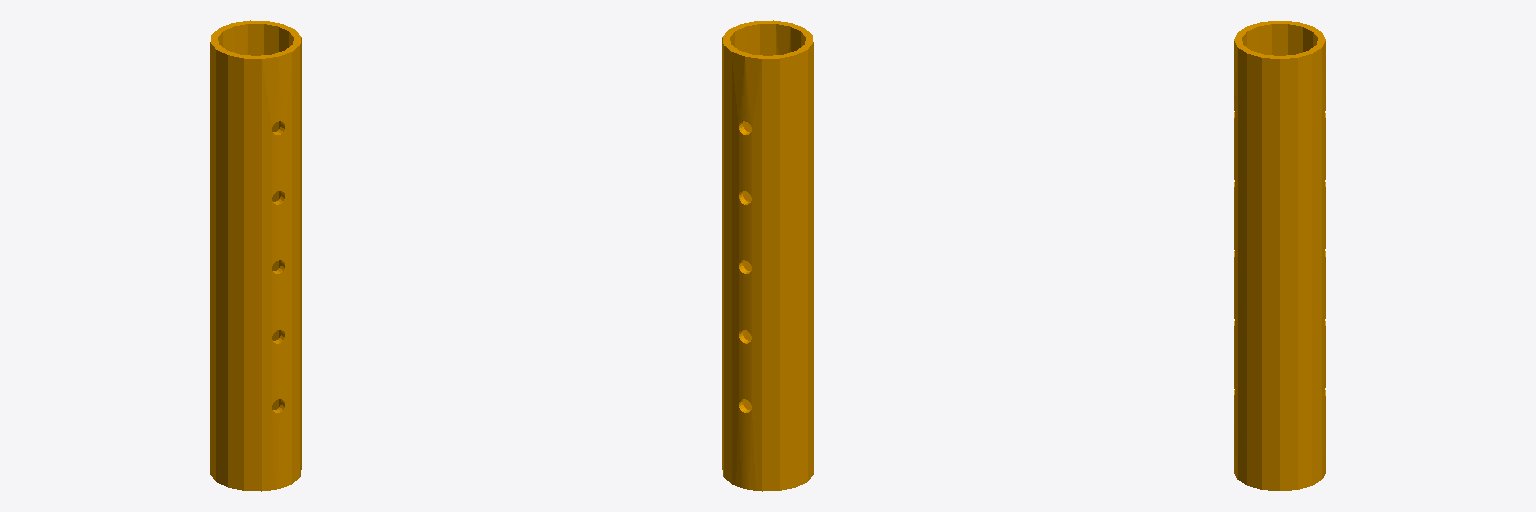
robot.urdf — 00175_socket:
<?xml version="1.0"?>
<robot name="00175_socket">
	<link name="00175_socket">
		<visual>
			<geometry>
				<mesh filename="../mesh/00175/asset_socket.obj"/>
			</geometry>
		</visual>
		<collision>
			<geometry>
				<mesh filename="../mesh/00175/asset_socket.obj"/>
			</geometry>
			<sdf resolution="256"/>
		</collision>
	</link>
</robot>

--- What the picture shows (computed from the rendered views, not written in the file) ---
Views: 3 orthographic renders of the robot side by side, from view 1: azimuth 30°, elevation 25°; view 2: azimuth 150°, elevation 25°; view 3: azimuth 270°, elevation 25°.
Robot: 00175_socket — 1 links, 0 joints (none); root link 00175_socket; default pose: all joints at 0.
Links seen in each view (by area): view 1: 00175_socket; view 2: 00175_socket; view 3: 00175_socket.
Boxes of the visible links, x1,y1,x2,y2 form: 00175_socket: (210,20,301,491); 00175_socket: (722,20,813,491); 00175_socket: (1234,21,1325,490).
Size in the robot's own frame: 0.0077 by 0.0077 by 0.04 metres.
Meshes: 1 distinct files referenced, 1 mesh visuals loaded (1 OBJ).
